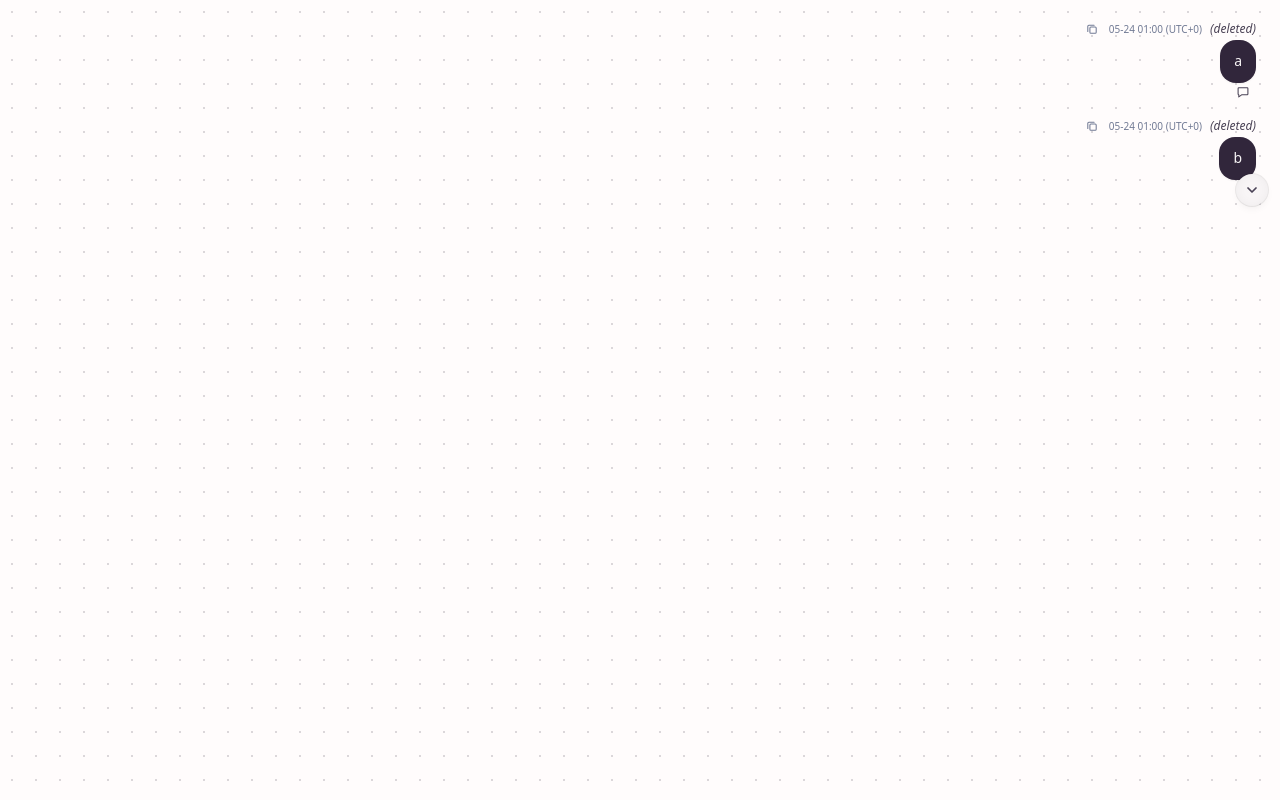
Test case: MessageList › clicking the jump-to-bottom button snaps to latest + hides the button
What coordinates should you click on to do the following:
click the button with test id "message-list-jump-bottom"
I would click on:
 (1252, 190)
Its box is [1236,174,1268,206].
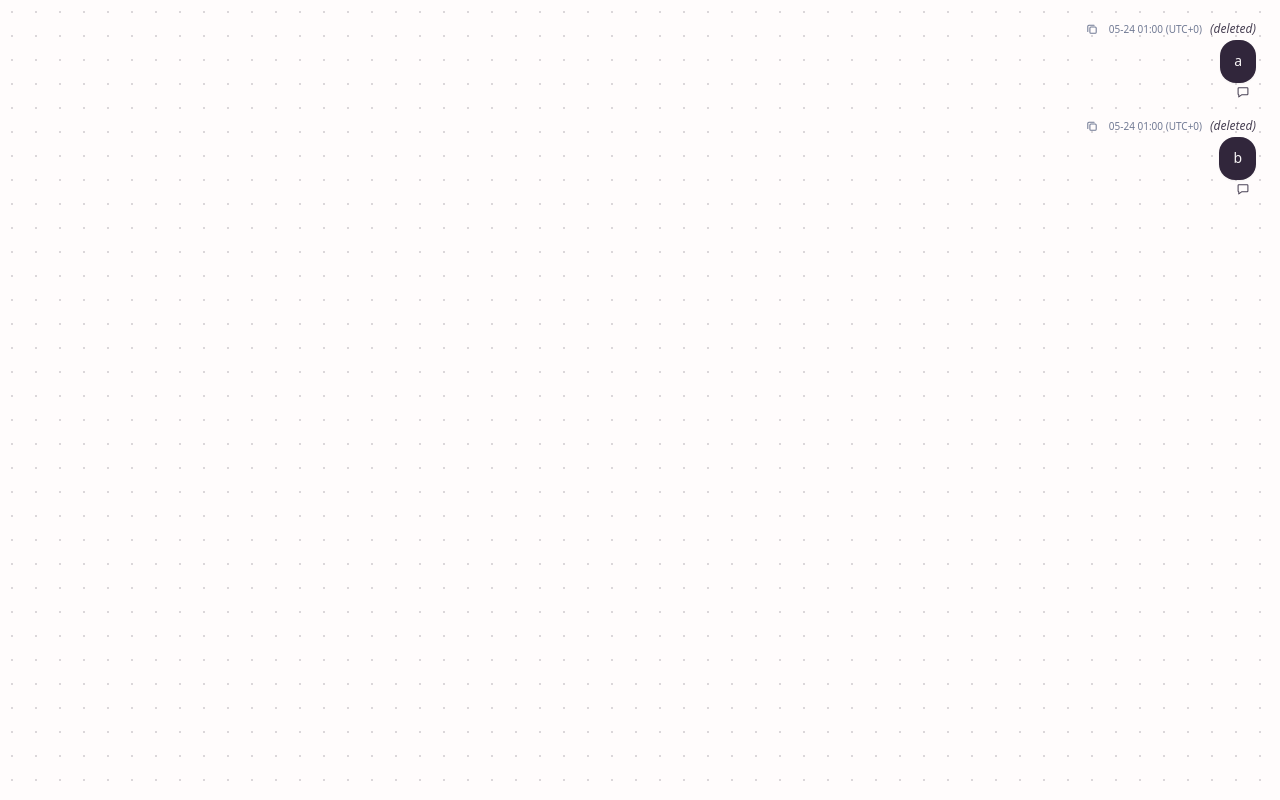
Now the button with test id "message-list-jump-bottom" is gone
